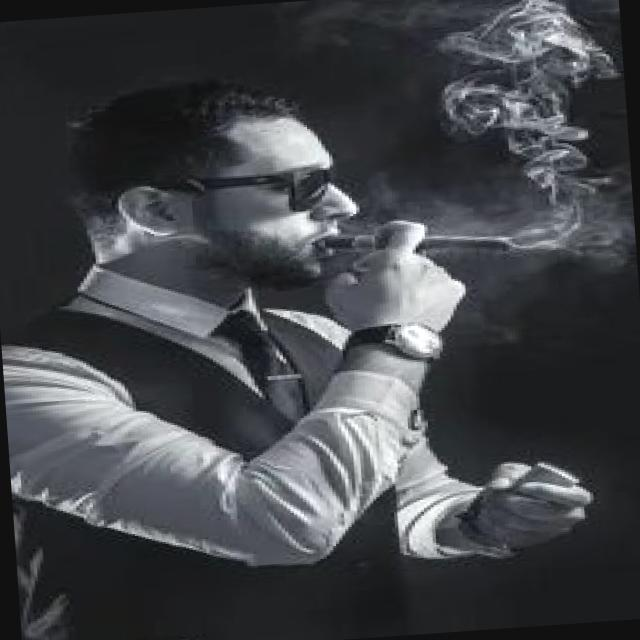cigarette: (318, 222, 512, 268)
